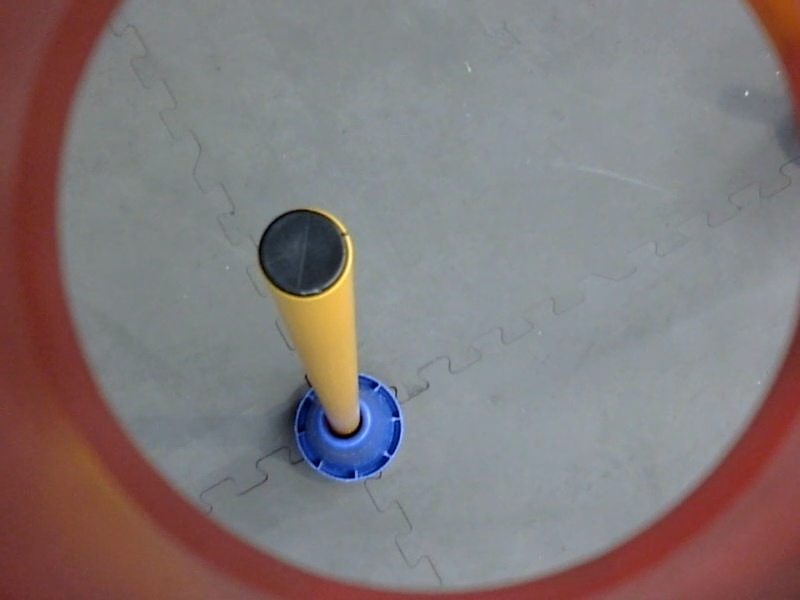tip: (249, 196, 354, 306)
